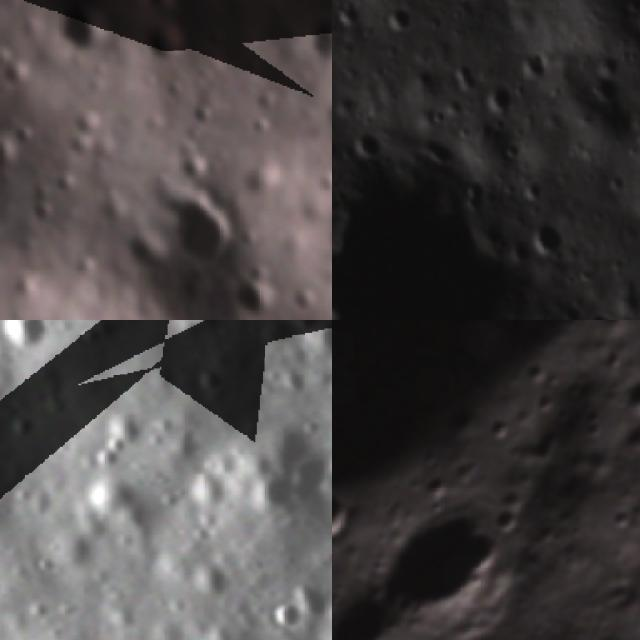crater: (332, 151, 544, 320), (346, 486, 529, 640), (160, 195, 240, 264), (519, 417, 574, 475), (522, 201, 570, 263), (513, 348, 568, 402), (0, 320, 59, 366), (332, 478, 365, 558), (223, 277, 283, 320), (60, 4, 110, 55), (262, 594, 309, 640), (144, 18, 190, 64), (574, 612, 640, 640), (125, 228, 165, 273), (472, 75, 518, 114), (484, 411, 526, 452), (348, 121, 388, 160), (603, 502, 640, 543), (378, 1, 417, 39), (615, 368, 640, 427), (597, 342, 632, 378), (180, 149, 211, 184), (310, 320, 332, 367), (277, 320, 329, 339), (0, 131, 24, 172), (619, 414, 640, 460), (538, 388, 566, 419), (456, 632, 499, 640), (579, 311, 616, 320)
